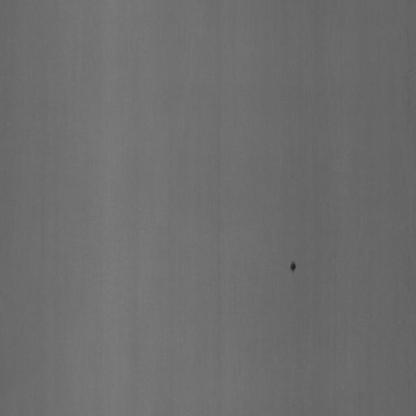inclusion: (288, 258, 296, 276)
